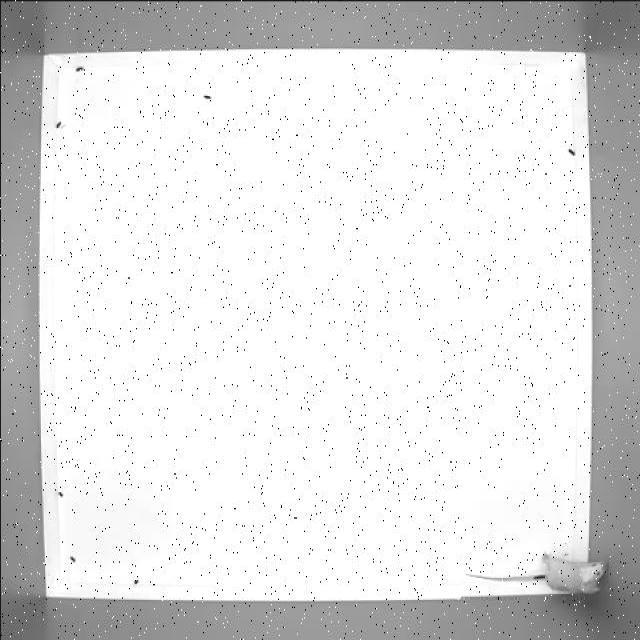rat: (461, 544, 609, 600)
